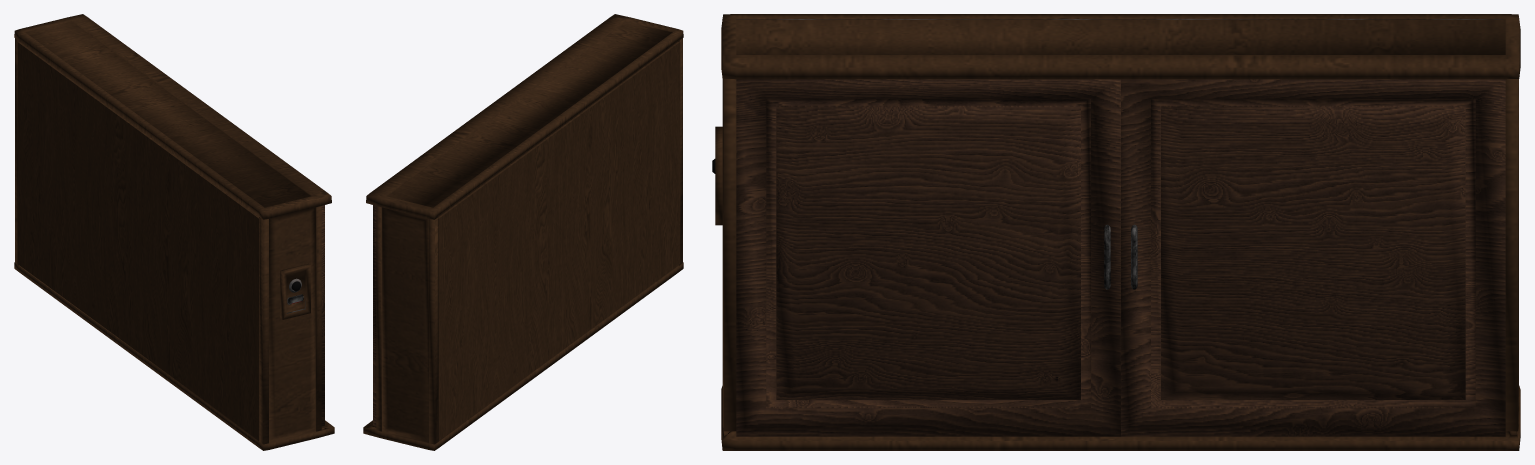
The model's file is szafka_pop_main.glb.
3 views of the same model, side by side, from view 1: azimuth 30°, elevation 25°; view 2: azimuth 150°, elevation 25°; view 3: azimuth 270°, elevation 25° (orthographic). The views are drawn at different scales.
Visible parts, largest first — view 1: Plane.010, Cube.001, Plane, Left_Door; view 2: Plane.010, Cube.001, Right_Door; view 3: Left_Door, Right_Door, Cube.001, Plane.
Part boxes in pixels (left/top/right/bottom): Plane.010: left=17, top=42, right=259, bottom=440; Cube.001: left=14, top=14, right=334, bottom=450; Plane: left=280, top=263, right=310, bottom=319; Left_Door: left=321, top=205, right=324, bottom=426; Plane.010: left=438, top=42, right=680, bottom=440; Cube.001: left=363, top=14, right=683, bottom=450; Right_Door: left=373, top=205, right=376, bottom=426; Left_Door: left=736, top=79, right=1120, bottom=436; Right_Door: left=1121, top=79, right=1505, bottom=436; Cube.001: left=721, top=14, right=1520, bottom=450; Plane: left=715, top=126, right=722, bottom=225.
Size of the model in its own units: 0.4322 by 1.35 by 2.58.
Materials: 3 (3 with a texture image).
